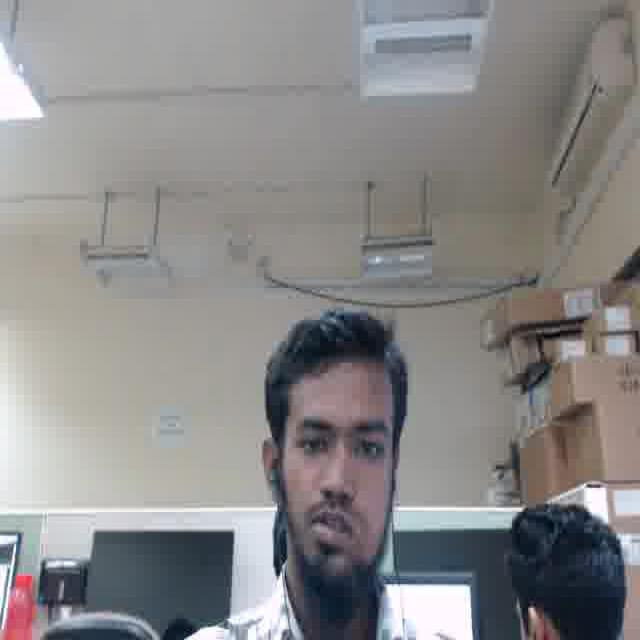Engaged: (280, 364, 396, 571)
